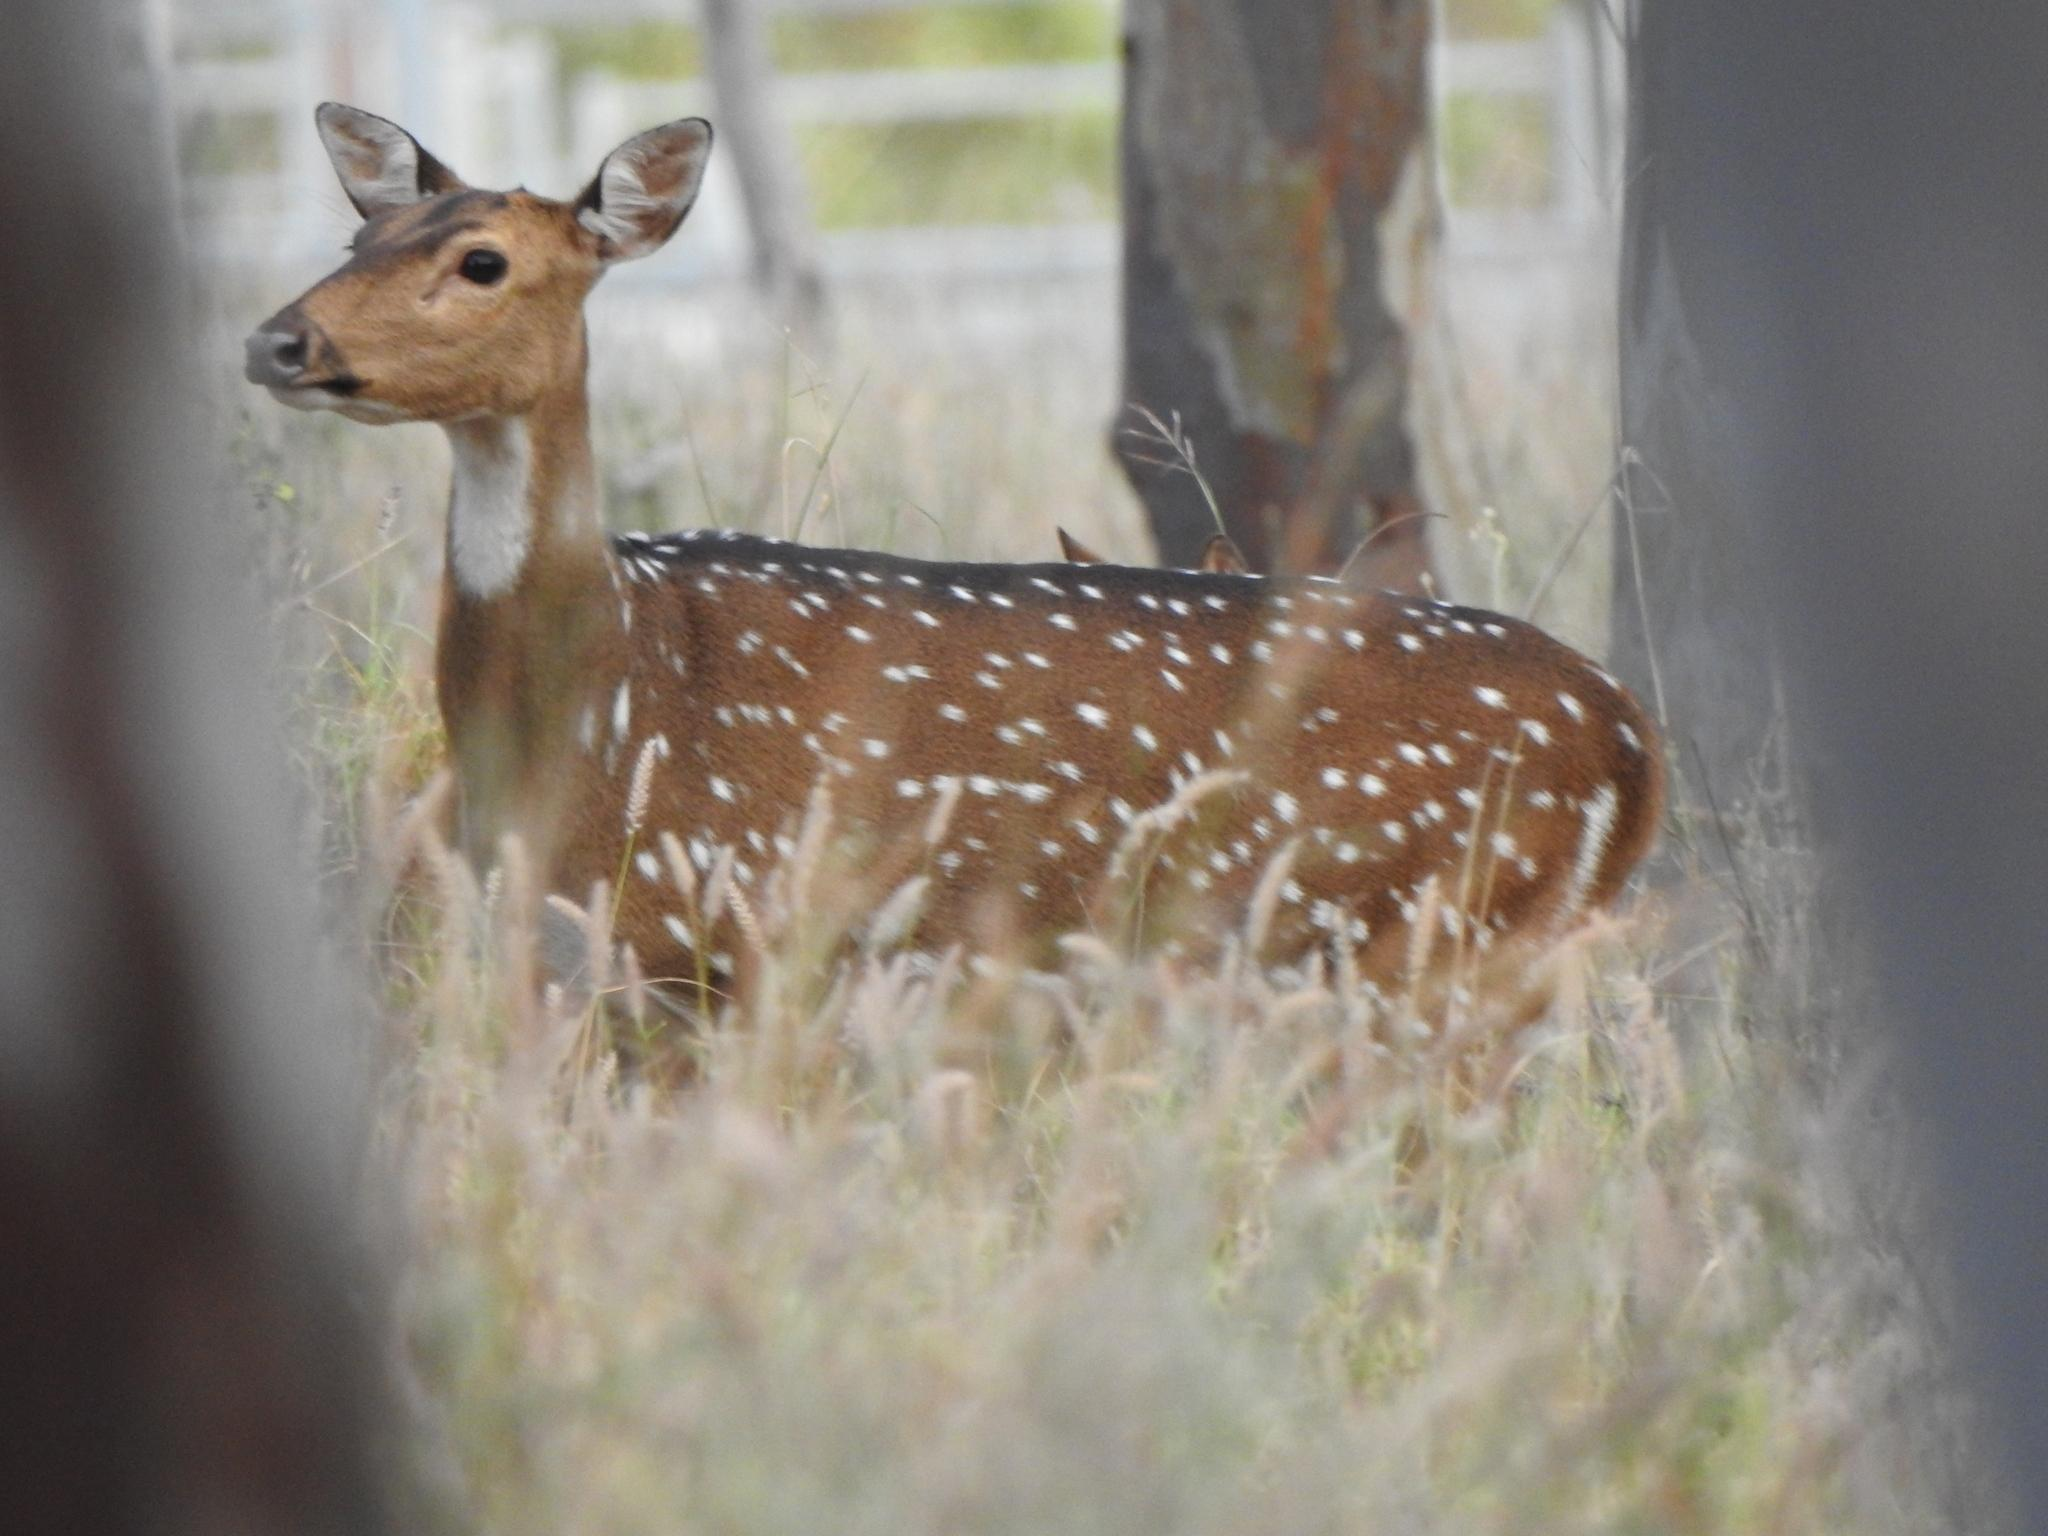Deer: (247, 103, 1663, 1004)
